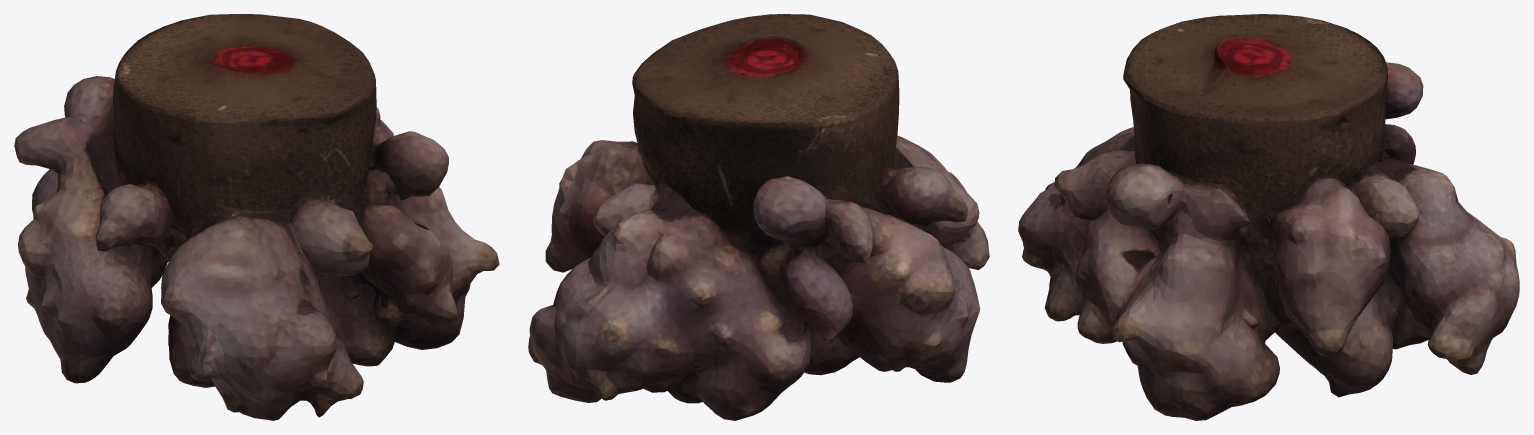
The model's file is crop_leola.glb.
3 views of the same model, side by side, from view 1: azimuth 30°, elevation 25°; view 2: azimuth 150°, elevation 25°; view 3: azimuth 270°, elevation 25° (orthographic). The views are drawn at different scales.
Parts seen in each view (by area): view 1: world; view 2: world; view 3: world.
Boxes of the visible parts, x1,y1,x2,y2 form: world: (14,14,499,420); world: (528,14,989,420); world: (1018,14,1519,420).
Size of the model in its own units: 0.5892 by 0.462 by 0.666.
1 material, 1 textured.
